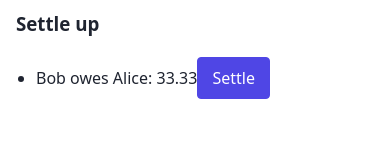
Scenario: SettleUpView › shows the server's error message when settling fails
Expected: the list item "Bob owes Alice: 33.33" is shown, top-left (36, 66), bottom-right (197, 88)
Click the button "Settle".
click(234, 78)  # box top-left (197, 56), bottom-right (270, 98)
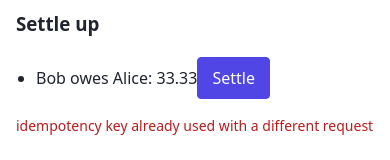
Expected: the text "idempotency key already used with a different request" is shown, top-left (16, 116), bottom-right (373, 134)
